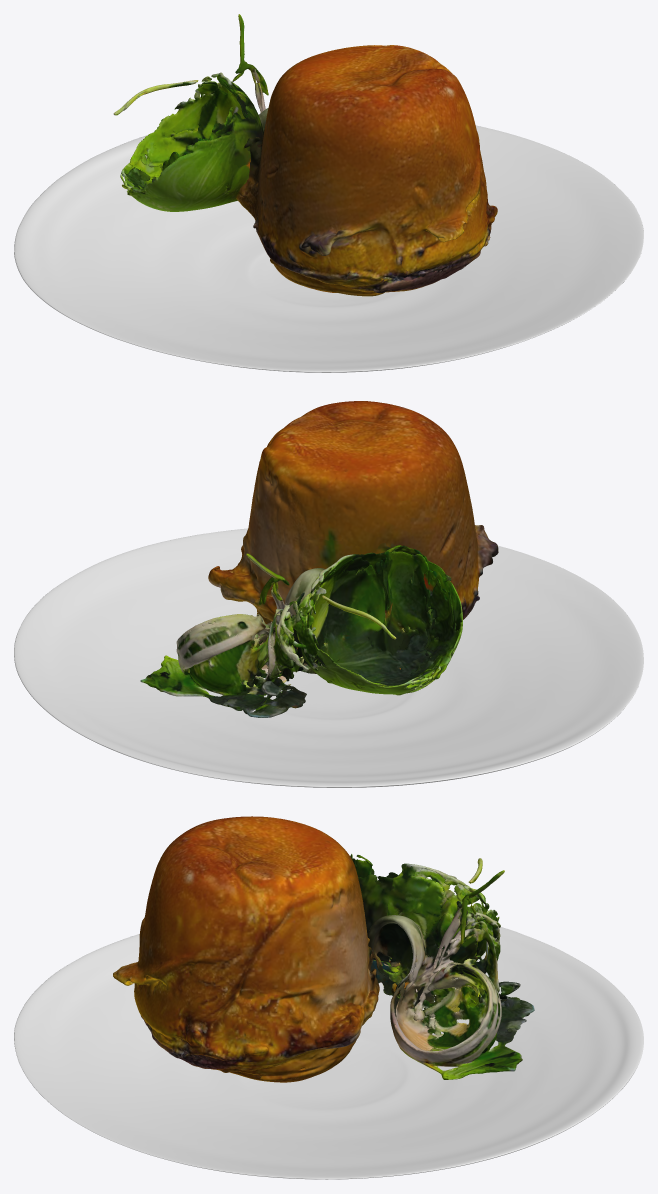
Rendered from cheeseplate.glb.
The picture shows the model from 3 angles, top to bottom: view 1: azimuth 30°, elevation 25°; view 2: azimuth 150°, elevation 25°; view 3: azimuth 270°, elevation 25°; orthographic projection. The views are drawn at different scales.
Visible parts, largest first — view 1: plat, tripo_node_73c52117; view 2: plat, tripo_node_73c52117; view 3: plat, tripo_node_73c52117.
Part boxes in pixels (bbox=[...]): plat: bbox=[14, 114, 643, 372]; tripo_node_73c52117: bbox=[113, 14, 497, 296]; plat: bbox=[14, 528, 643, 787]; tripo_node_73c52117: bbox=[140, 401, 498, 717]; plat: bbox=[14, 927, 643, 1179]; tripo_node_73c52117: bbox=[113, 816, 534, 1082].
Size of the model in its own units: 1.54 by 0.6298 by 1.49.
Materials: 2 (1 with a texture image).
